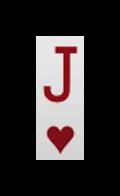JH: (40, 40, 80, 157)
